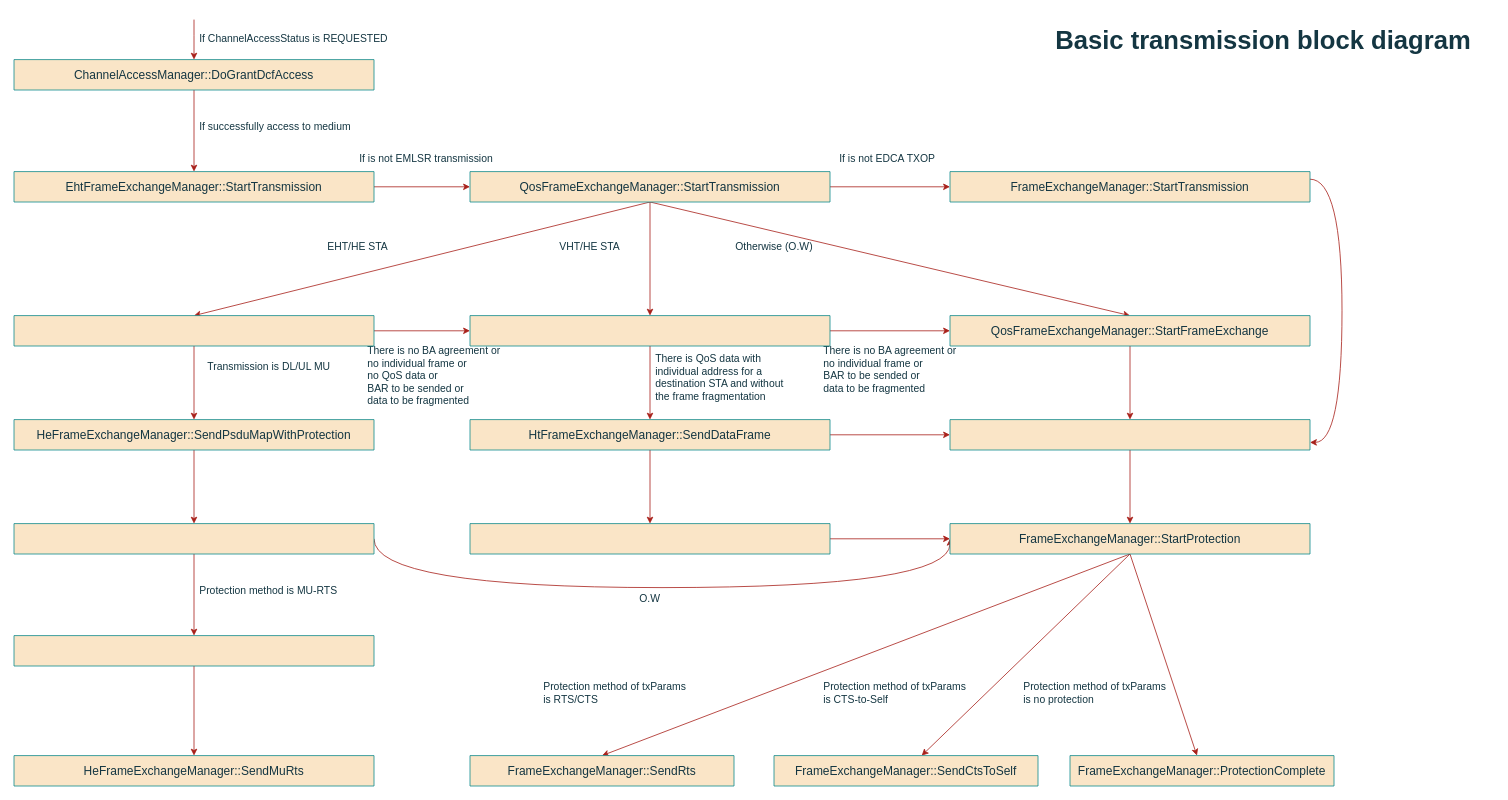
This 1508x800 diagram has some shape labels left out. The shapes that lost their labels are listed below. From the top down, each one's centre as x and y in pixels, then its label:
At (193,330): "HeFrameExchangeManager::StartFrameExchange".
At (649,330): "HtFrameExchangeManager::StartFrameExchange".
At (1129,434): "FrameExchangeManager::SendMpduWithProtection".
At (193,538): "HeFrameExchangeManager::StartProtection".
At (649,538): "HtFrameExchangeManager::SendPsduWithProtection".
At (193,650): "HeFrameExchangeManager::RecordSentMuRtsTo".
